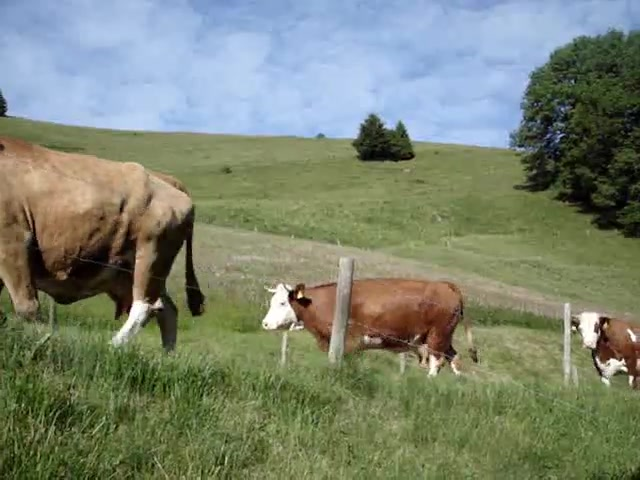cow: (256, 277, 478, 382)
